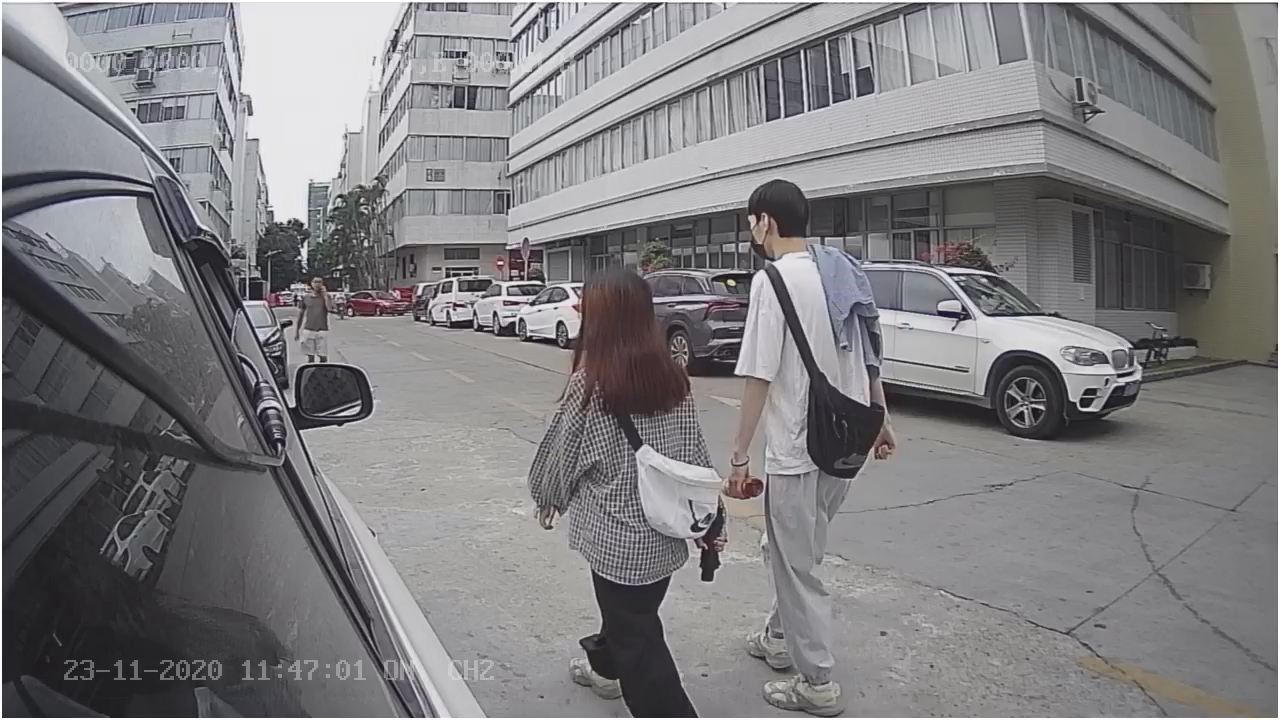person: (730, 166, 924, 713)
